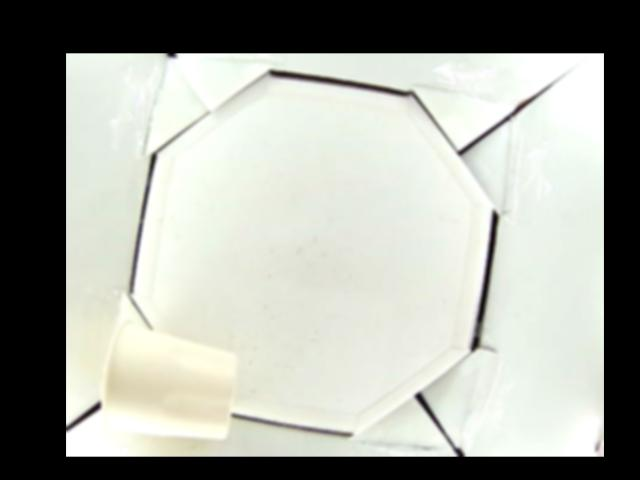Cup: (98, 321, 240, 439)
